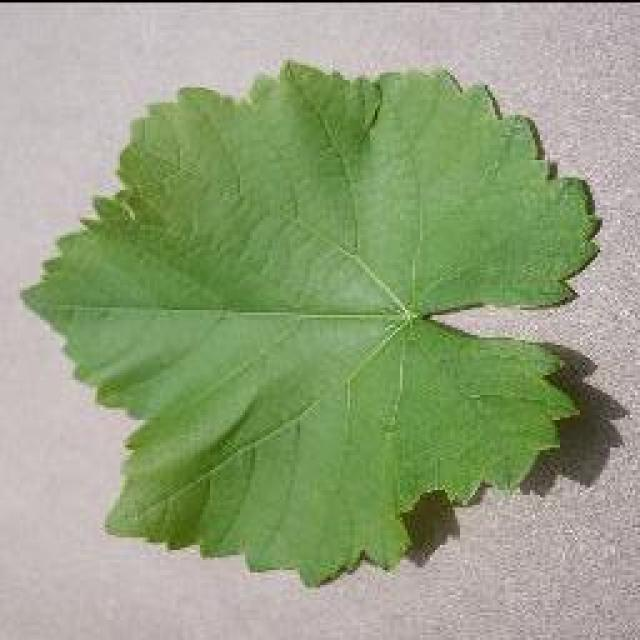Grape___healthy: (25, 62, 595, 582)
